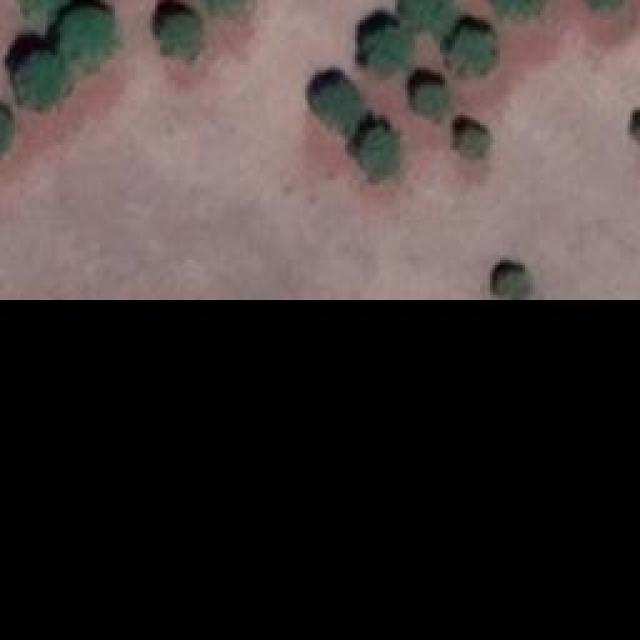Tree: (63, 5, 113, 70), (15, 55, 68, 108), (313, 80, 363, 135), (360, 128, 398, 183), (160, 12, 203, 60), (368, 28, 411, 73), (453, 30, 496, 73), (407, 0, 457, 32), (413, 83, 446, 113), (495, 270, 530, 298), (198, 0, 248, 18), (460, 128, 488, 158), (20, 0, 70, 15), (493, 0, 538, 15)
